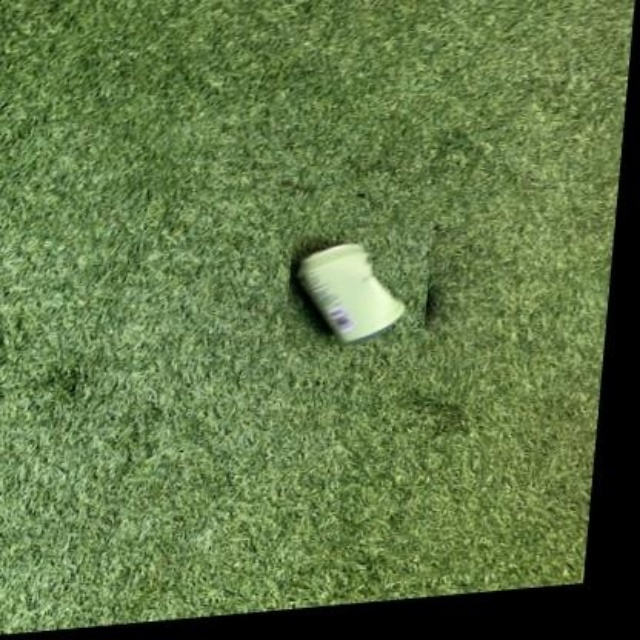trash: (297, 243, 403, 342)
